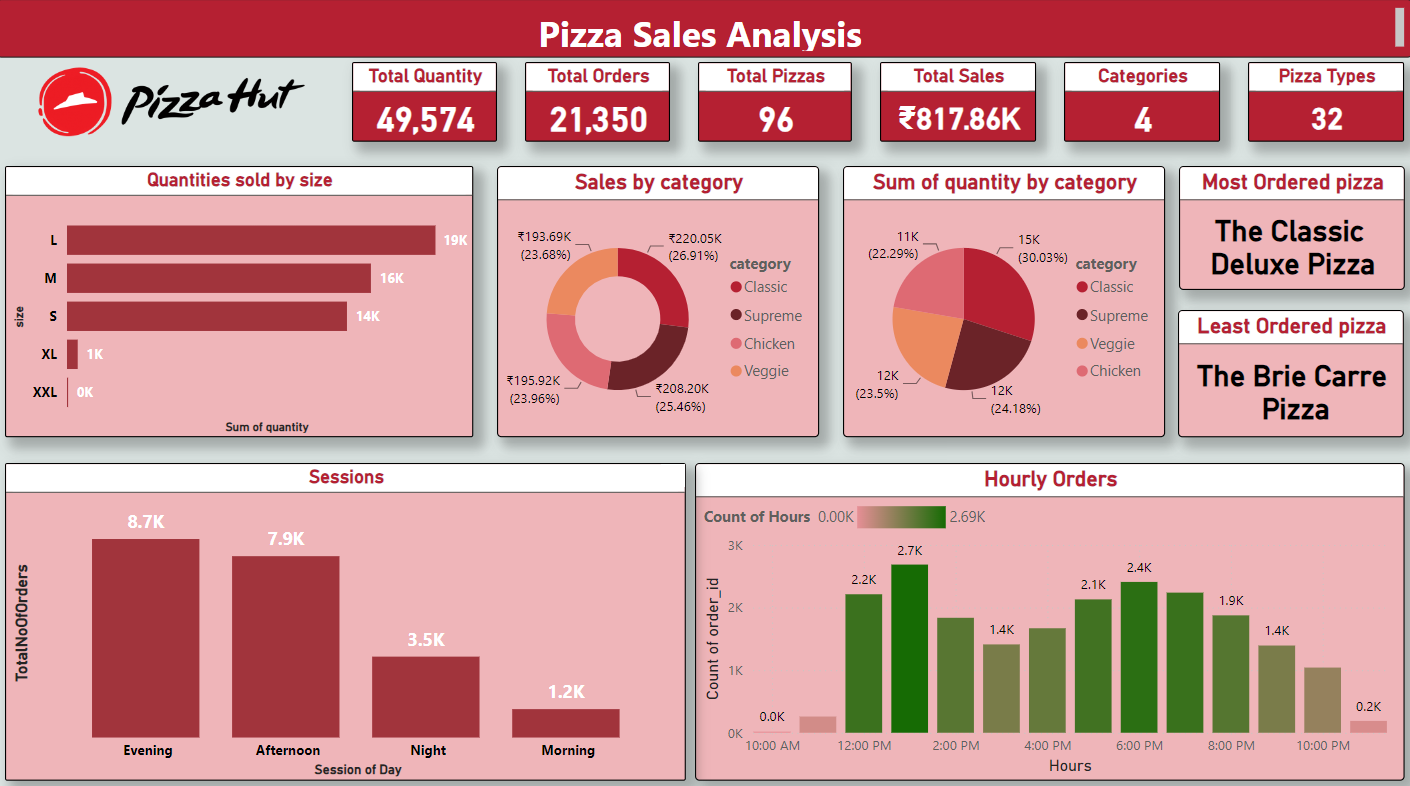

The dashboard page shown, as its layout file describes it:
{"tool":"powerbi","page":{"name":"Page 1","canvas":[1280,720],"ordinal":0},"visuals":[{"type":"card","title":"Total Quantity","fields":{"Values":["Sum(order_details.quantity)"]},"box":[322,57,131,72],"z":0},{"type":"card","title":"Total Orders","fields":{"Values":["order_details.TotalNoOfOrders"]},"box":[478.2,57,131,72],"z":1000},{"type":"card","title":"Total Pizzas","fields":{"Values":["Count(pizzas.pizza_id)"]},"box":[634.4,57,139,72],"z":2000},{"type":"card","title":"Total Sales","fields":{"Values":["Sum(order_details.Sales)"]},"box":[798.6,57,141,72],"z":3000},{"type":"pieChart","fields":{"Category":["pizza_types.category"],"Y":["Sum(order_details.quantity)"]},"box":[765,150.4,291,245.4],"z":4000},{"type":"columnChart","title":"Hourly Orders","fields":{"Category":["orders.Custom_time"],"Y":["Count(order_details.order_id)"]},"box":[631,419,641,287],"z":5000},{"type":"donutChart","title":"Sales by category","fields":{"Category":["pizza_types.category"],"Y":["Sum(order_details.Sales)"]},"box":[452.3,150.4,291,245.4],"z":6000},{"type":"textbox","box":[0,0,1280,53],"z":7000},{"type":"card","title":"Categories","fields":{"Values":["Count(pizza_types.category)"]},"box":[964.8,57,141,72],"z":8000},{"type":"card","title":"Pizza Types","fields":{"Values":["Count(pizza_types.pizza_type_id)"]},"box":[1131,57,141,72],"z":9000},{"type":"clusteredBarChart","title":"Quantities sold by size","fields":{"Category":["pizzas.size"],"Y":["Sum(order_details.quantity)"]},"box":[7.9,150.4,422.6,245.4],"z":10000},{"type":"card","title":"Most Ordered pizza","fields":{"Values":["Min(pizza_types.name)"]},"box":[1068.9,150.4,203.9,111.8],"z":11000},{"type":"card","title":"Least Ordered pizza","fields":{"Values":["Min(pizza_types.name)"]},"box":[1067.9,281.1,203.9,114.8],"z":12000},{"type":"columnChart","title":"Sessions","fields":{"Category":["orders.Session of Day"],"Y":["order_details.TotalNoOfOrders"]},"box":[8,419,615,287],"z":13000},{"type":"image","box":[8,57,300,72],"z":14000}]}

Visuals, with their boxes in screenshot pixels (x1, y1, x2, y2), scaled from the page's 1280x720 canvas onto the 1410x786 screenshot:
"Total Quantity" card: BBox(355, 62, 499, 141)
"Total Orders" card: BBox(527, 62, 671, 141)
"Total Pizzas" card: BBox(699, 62, 852, 141)
"Total Sales" card: BBox(880, 62, 1035, 141)
pieChart - pizza_types.category x Sum(order_details.quantity): BBox(843, 164, 1163, 432)
"Hourly Orders" columnChart: BBox(695, 457, 1401, 771)
"Sales by category" donutChart: BBox(498, 164, 819, 432)
textbox: BBox(0, 0, 1409, 58)
"Categories" card: BBox(1063, 62, 1218, 141)
"Pizza Types" card: BBox(1246, 62, 1401, 141)
"Quantities sold by size" clusteredBarChart: BBox(9, 164, 474, 432)
"Most Ordered pizza" card: BBox(1177, 164, 1402, 286)
"Least Ordered pizza" card: BBox(1176, 307, 1401, 432)
"Sessions" columnChart: BBox(9, 457, 686, 771)
image: BBox(9, 62, 339, 141)
